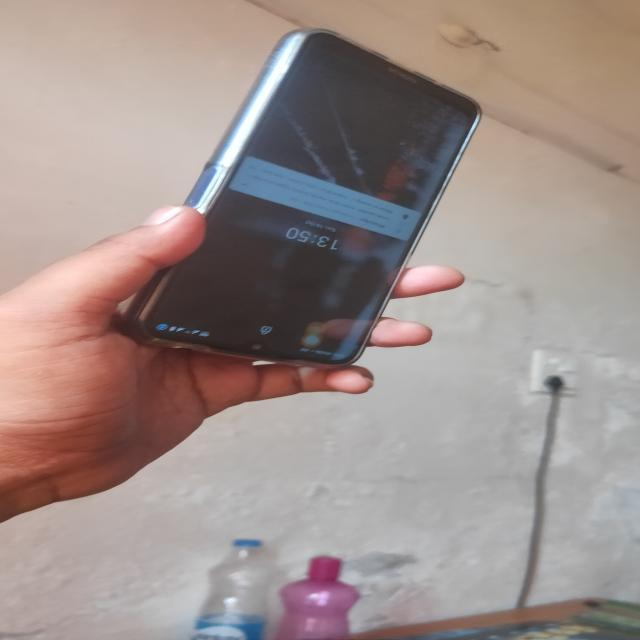Phone: (108, 21, 486, 370)
